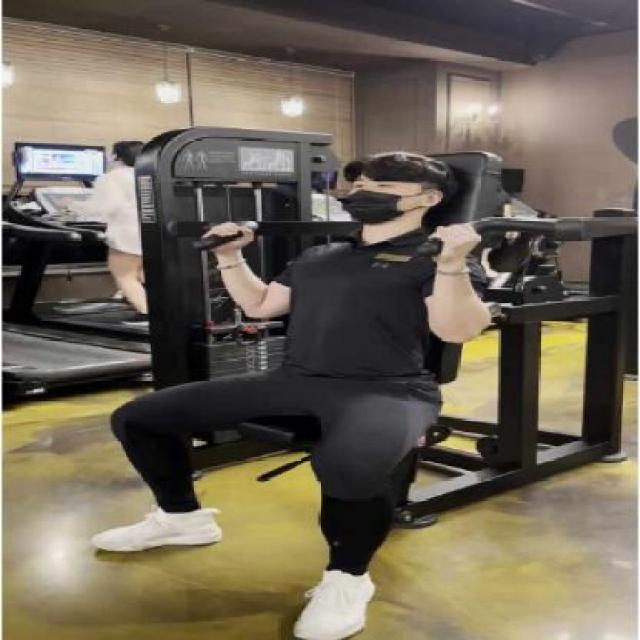shoulder press machine: (52, 84, 639, 640)
